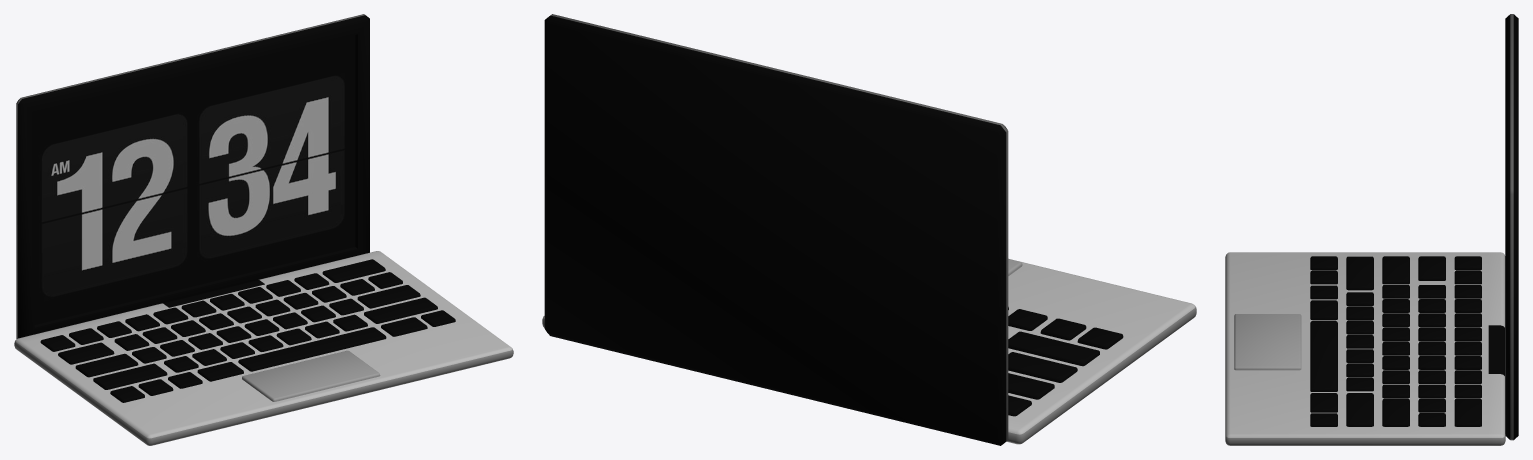
Rendered from Computer.fbx.
The picture shows the model from 3 angles, left to right: view 1: azimuth 30°, elevation 25°; view 2: azimuth 150°, elevation 25°; view 3: azimuth 270°, elevation 25°; orthographic projection. The views are drawn at different scales.
Visible parts, largest first — view 1: Computer; view 2: Computer; view 3: Computer.
Part boxes in pixels (x1,y1,x2,y2): Computer: (14,14,513,445); Computer: (542,14,1196,445); Computer: (1225,14,1518,445).
Bounding box in the file's own units: 272 × 174 × 182.
